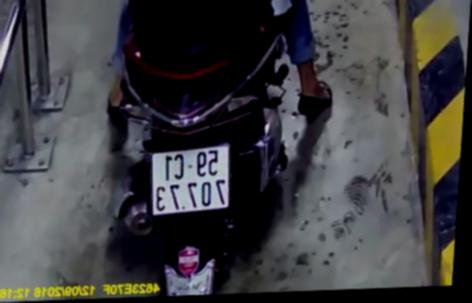License_Plate: (145, 138, 241, 222)
